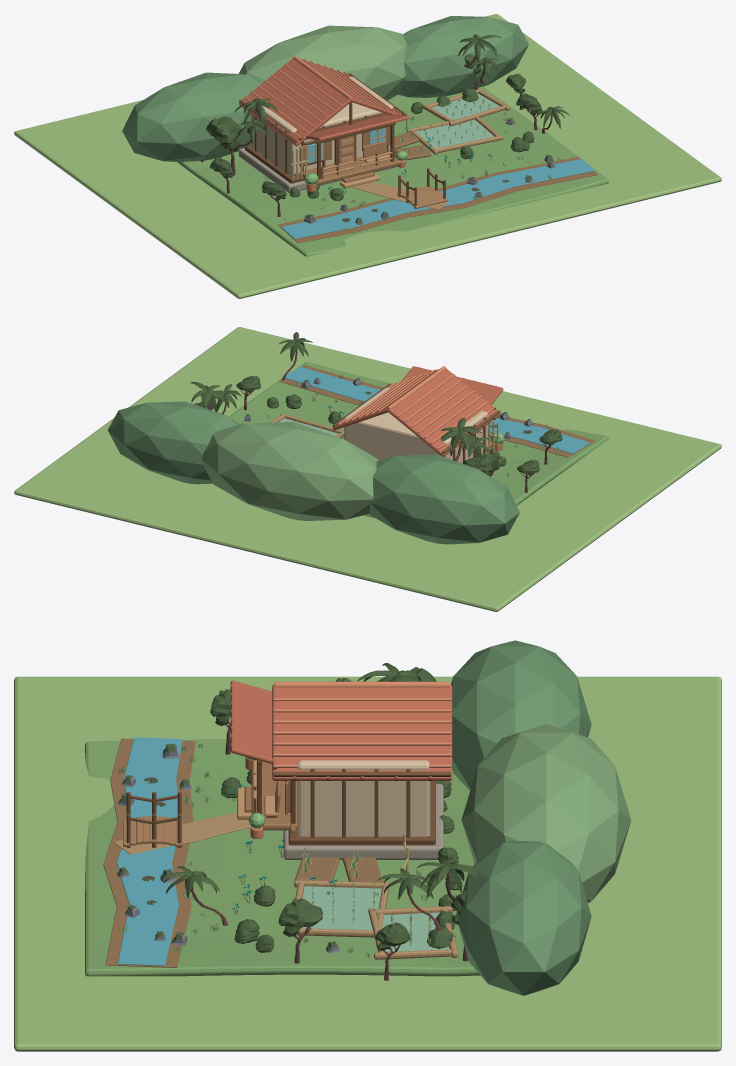
File: hero_scene_01.glb
3 renders of one model, top to bottom at view 1: azimuth 30°, elevation 25°; view 2: azimuth 150°, elevation 25°; view 3: azimuth 270°, elevation 25°, orthographic. The views are drawn at different scales.
Parts seen in each view (by area): view 1: ExtendedVillageGround, SculptedVillageGround, BackHillA, BackHillC, BackHillB, StreamWater, RoofLeft, HouseBody, StreamBank, PaddyWater_0, PorchRoof, PorchFloor (+7 smaller); view 2: ExtendedVillageGround, BackHillB, BackHillA, BackHillC, SculptedVillageGround, RoofLeft, HouseBody, StreamWater, StreamBank, RoofRight, PorchRoof, HeroPalm_0 (+3 smaller); view 3: ExtendedVillageGround, SculptedVillageGround, BackHillB, BackHillC, RoofRight, BackHillA, StreamWater, HouseBody, StreamBank, PorchRoof, StoneFoundation, PaddyWater_0 (+19 smaller).
Boxes of the visible parts, x1,y1,x2,y2 form: ExtendedVillageGround: (14, 14, 721, 298); SculptedVillageGround: (177, 86, 608, 256); BackHillA: (122, 72, 265, 161); BackHillC: (398, 16, 528, 97); BackHillB: (238, 25, 407, 100); StreamWater: (281, 159, 594, 238); RoofLeft: (239, 58, 351, 146); HouseBody: (250, 76, 393, 176); StreamBank: (278, 157, 597, 243); PaddyWater_0: (415, 119, 493, 148); PorchRoof: (306, 114, 409, 140); PorchFloor: (302, 154, 400, 184); ExtendedVillageGround: (14, 327, 721, 611); BackHillB: (201, 422, 378, 520); BackHillA: (369, 454, 519, 544); BackHillC: (107, 401, 240, 484); SculptedVillageGround: (229, 362, 608, 518); RoofLeft: (388, 368, 500, 456); HouseBody: (344, 387, 487, 463); StreamWater: (285, 367, 589, 453); StreamBank: (279, 365, 594, 457); RoofRight: (332, 369, 438, 430); PorchRoof: (402, 366, 503, 405); HeroPalm_0: (441, 417, 482, 461); ExtendedVillageGround: (14, 676, 721, 1051); SculptedVillageGround: (85, 739, 480, 976); BackHillB: (461, 724, 631, 902); BackHillC: (456, 840, 591, 995); RoofRight: (272, 684, 452, 780); BackHillA: (451, 640, 591, 790); StreamWater: (116, 737, 182, 965); HouseBody: (297, 760, 430, 836); StreamBank: (103, 738, 195, 967); PorchRoof: (230, 680, 272, 763); StoneFoundation: (283, 783, 443, 859); PaddyWater_0: (301, 886, 381, 930).
Bounding box in the file's own units: 31 × 6.11 × 25.
